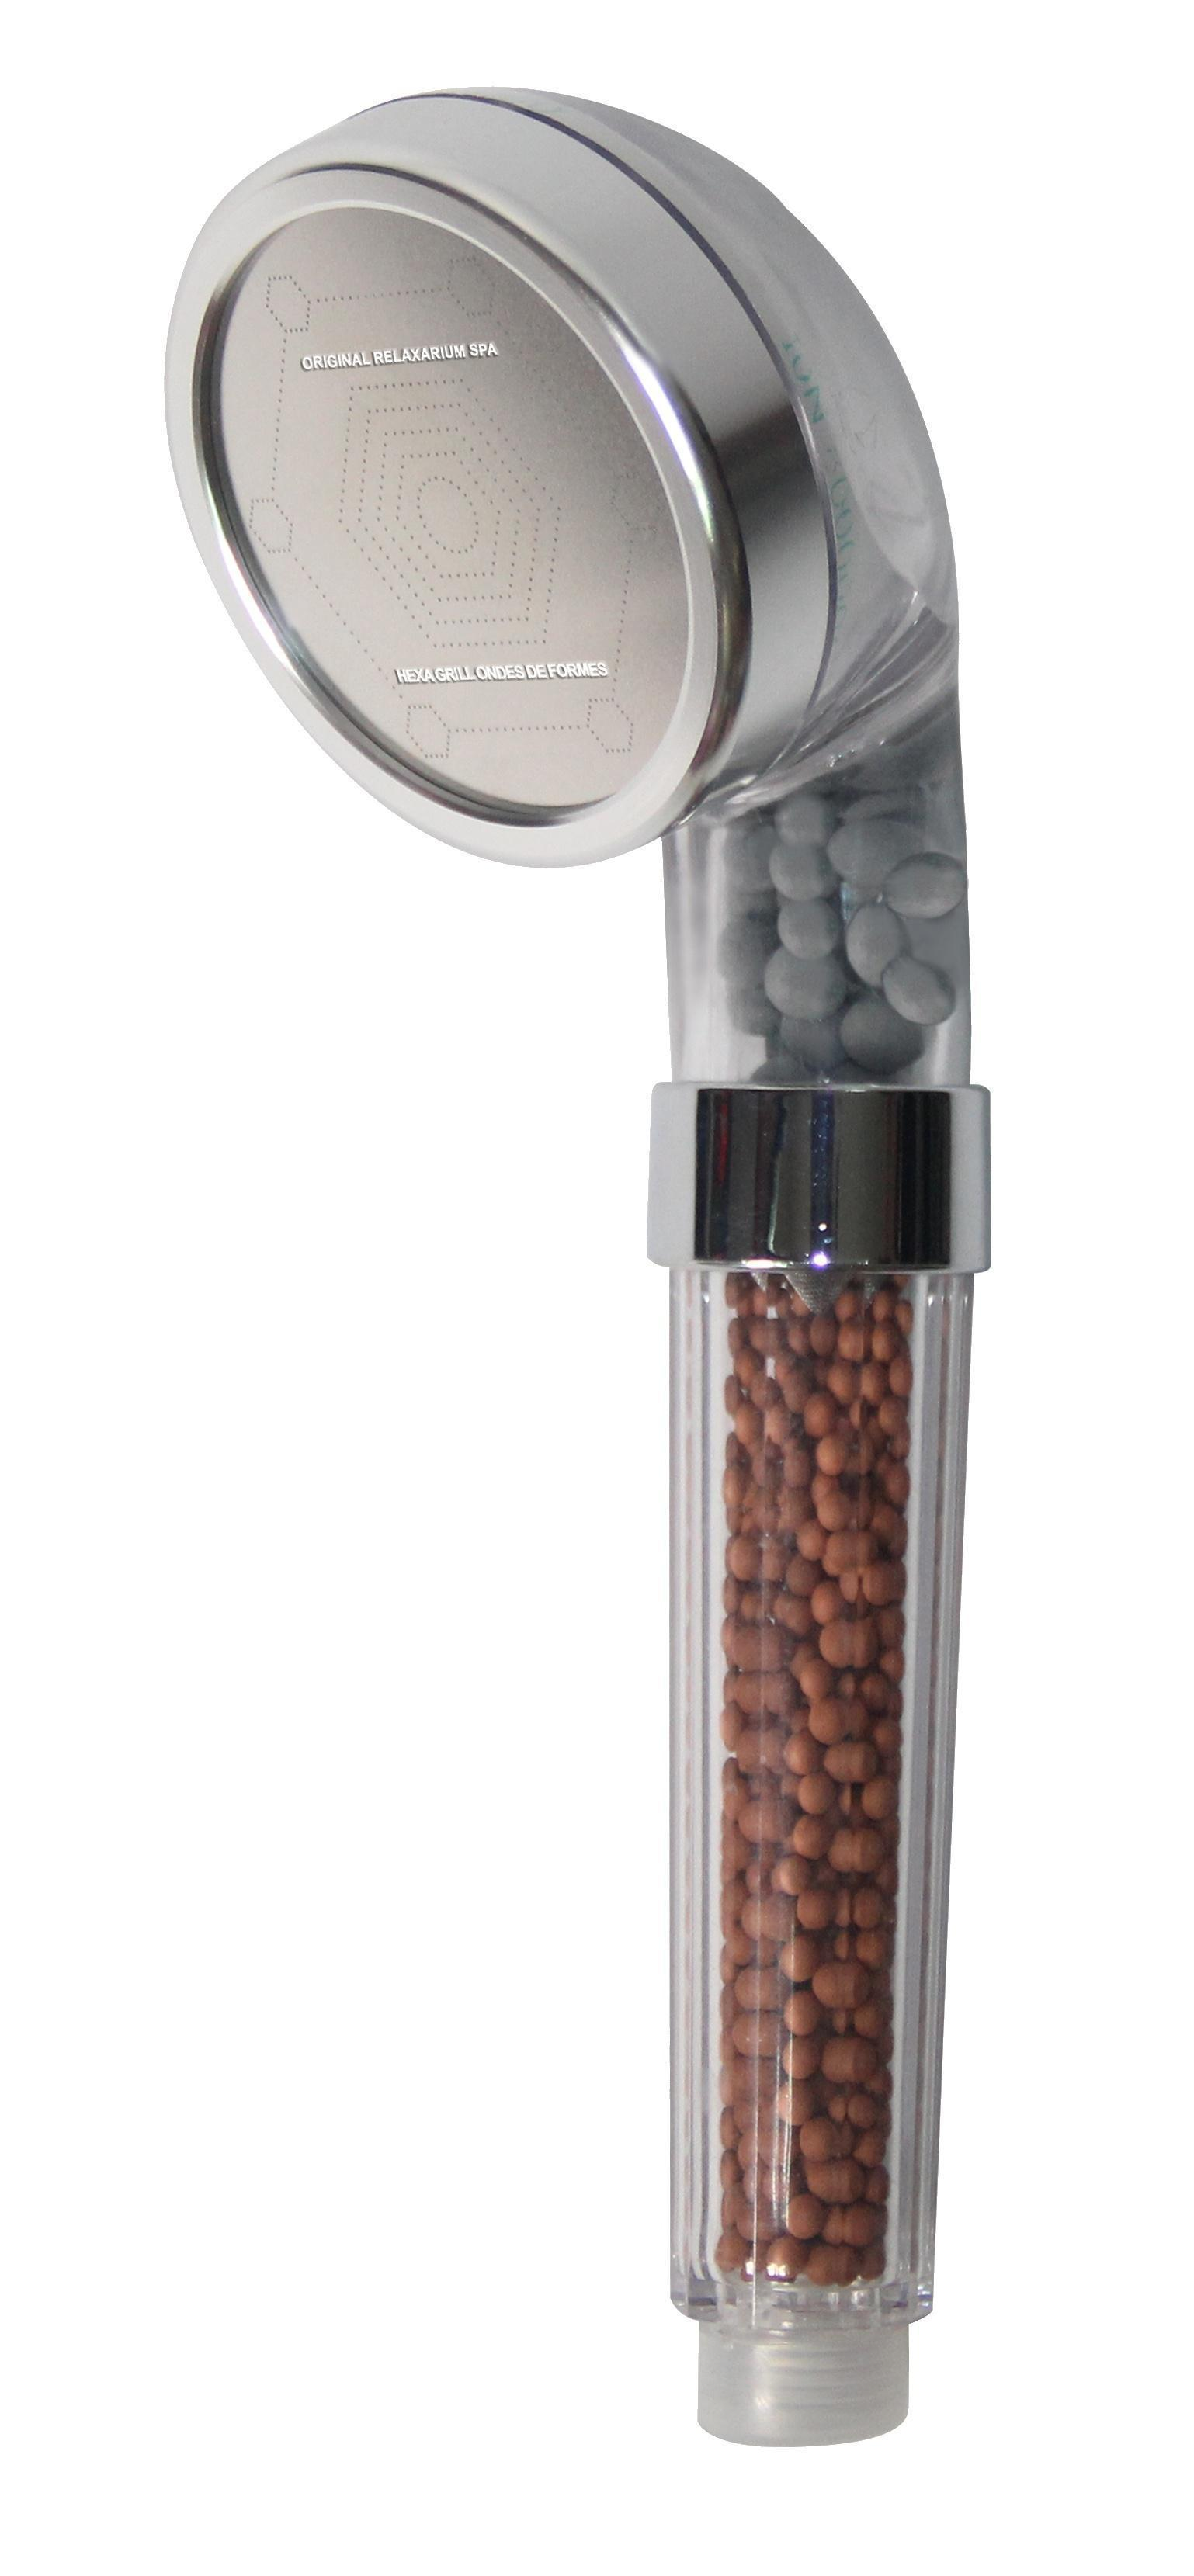Ducha: (107, 84, 1161, 2481)
